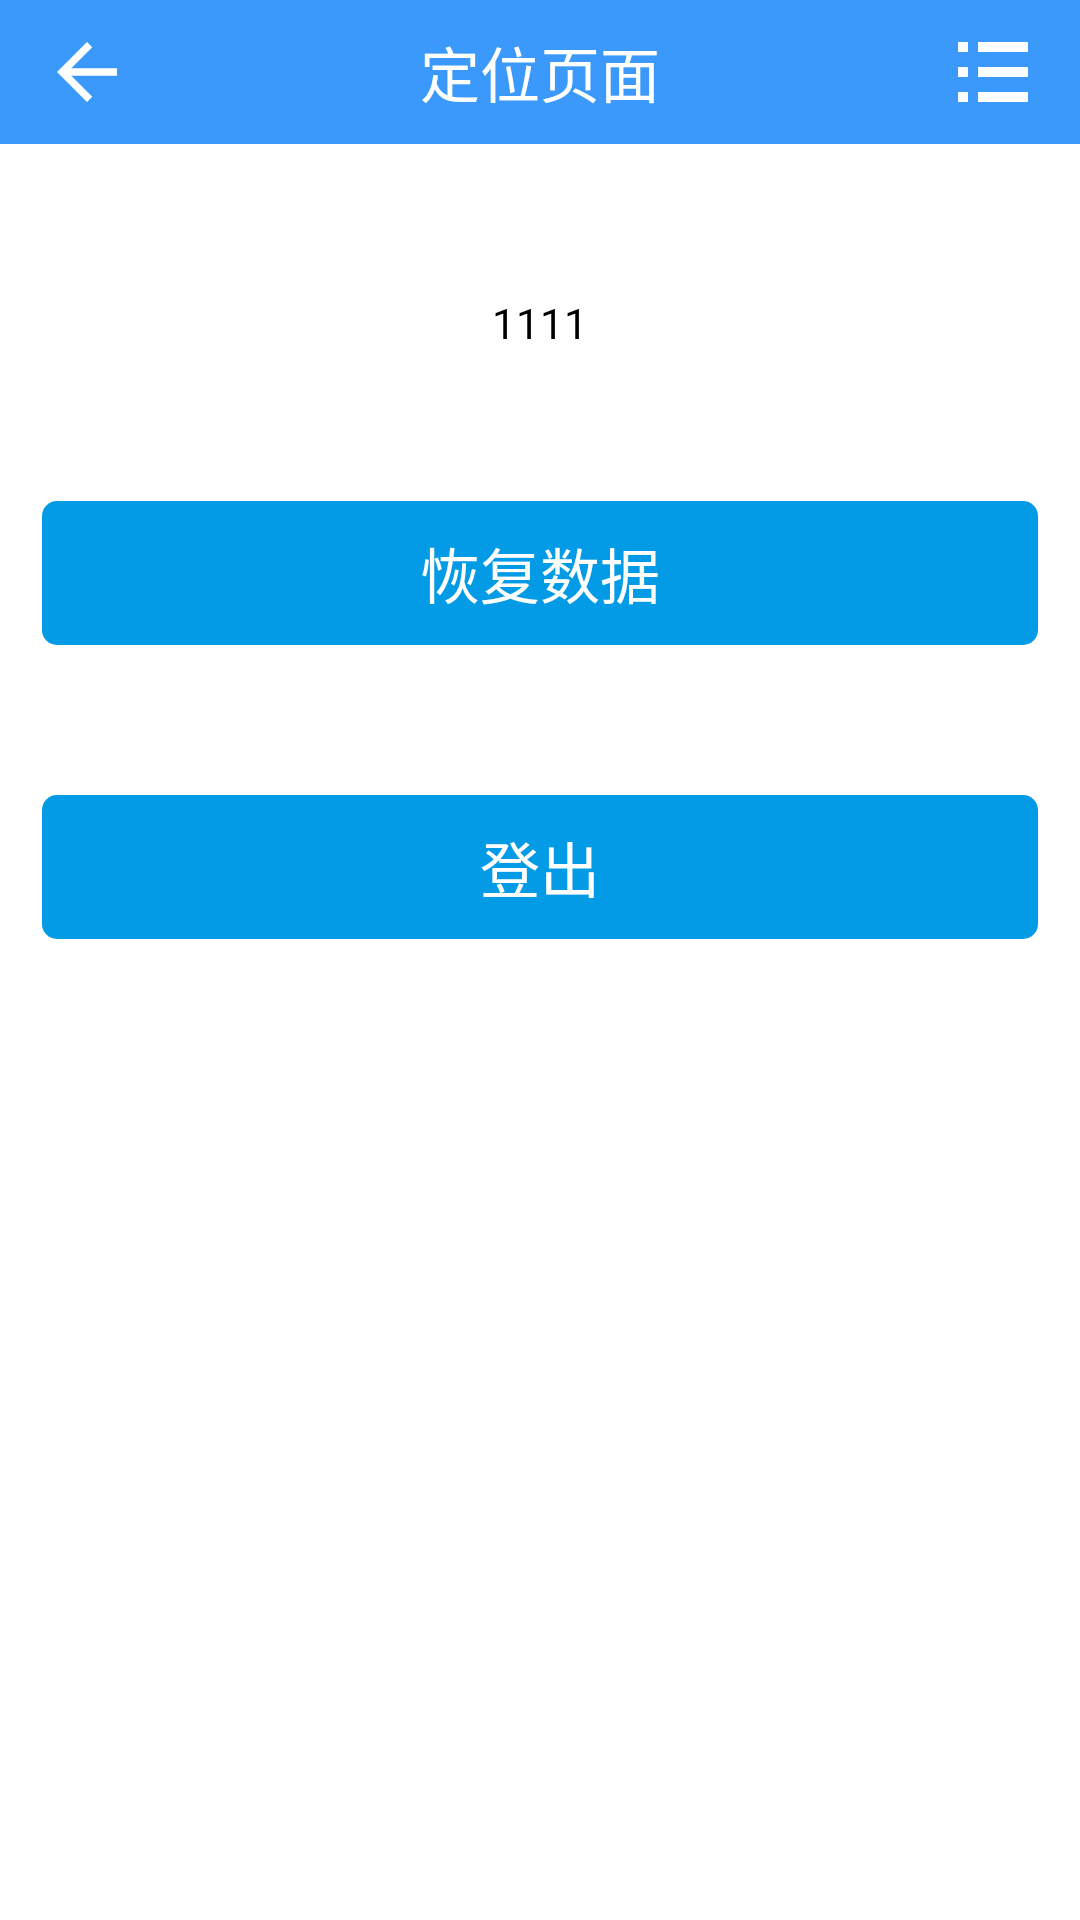

Where icons sit on this 1080px x 1920px app screen, as bbox=(x1, y1, x2, y2):
list: bbox=(958, 42, 1028, 102)
